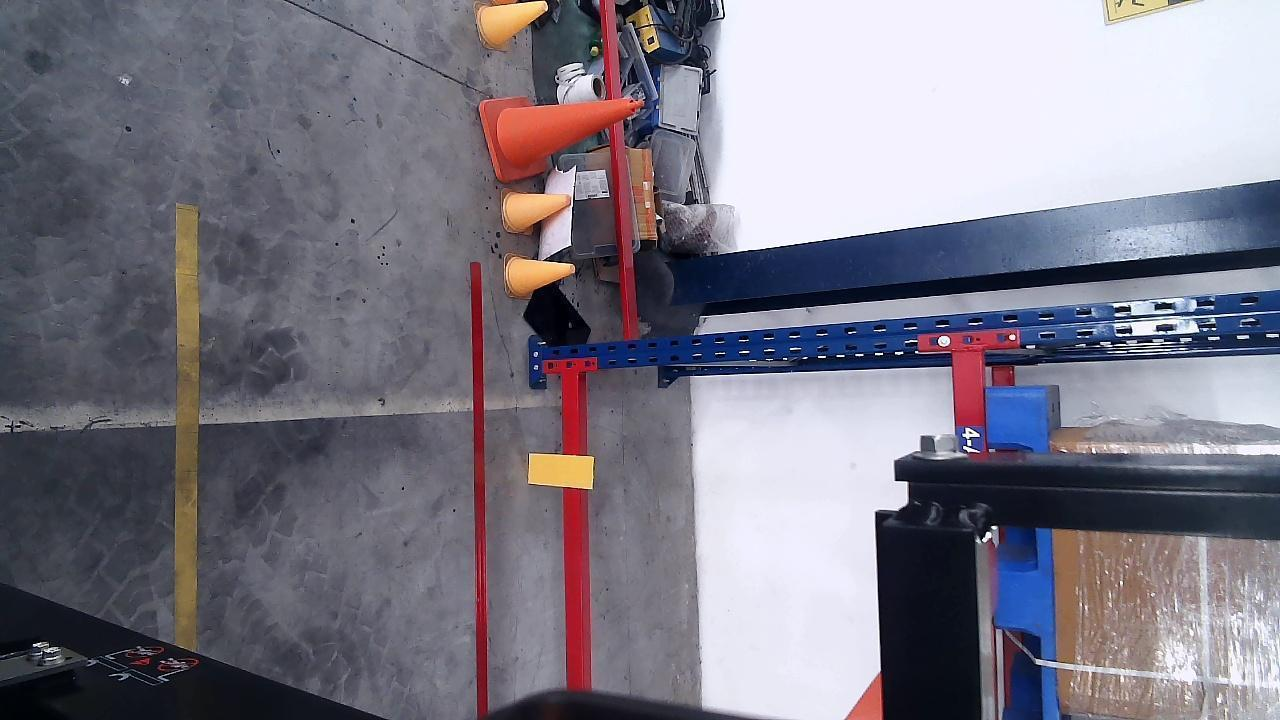red_line: (470, 263, 488, 715)
yellow_line: (172, 205, 199, 652)
